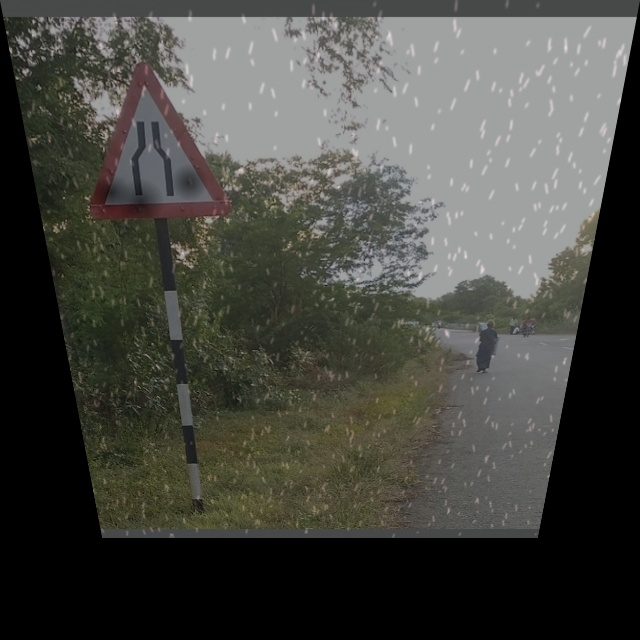Narrow_Road_Ahead: (65, 57, 236, 218)
